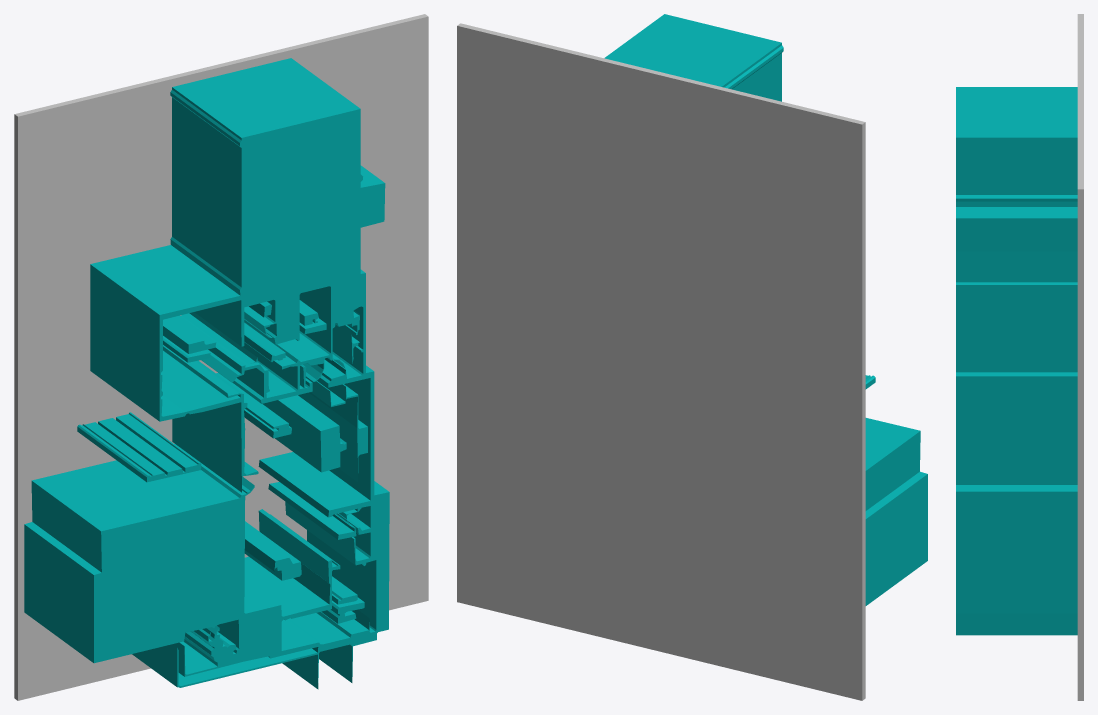
The picture shows the model from 3 angles, left to right: view 1: azimuth 30°, elevation 25°; view 2: azimuth 150°, elevation 25°; view 3: azimuth 270°, elevation 25°; orthographic projection. The views are drawn at different scales.
Parts seen in each view (by area): view 1: world; view 2: world; view 3: world.
Part boxes in pixels (x1=…): world: x1=14, y1=14, x2=428, y2=700; world: x1=457, y1=14, x2=927, y2=700; world: x1=956, y1=14, x2=1083, y2=700.
Size of the model in its own units: 10.23 by 13.91 by 3.15.
